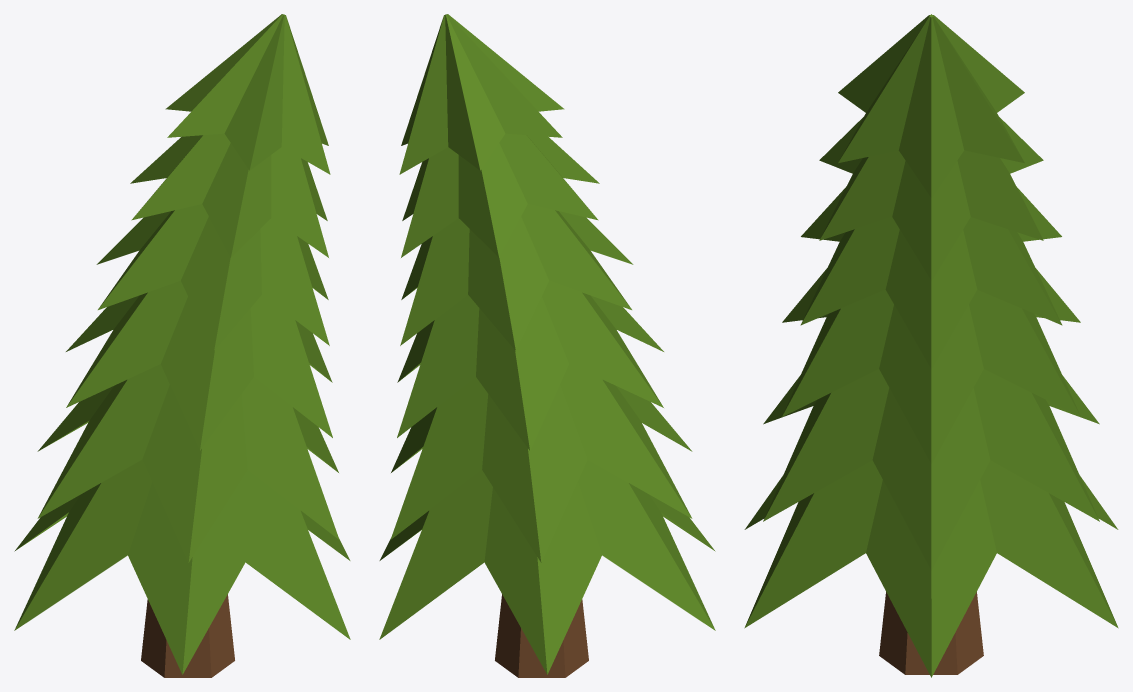
The model's file is SPW_Natures_Tree_Fir_02.glb.
The picture shows the model from 3 angles, left to right: view 1: azimuth 30°, elevation 25°; view 2: azimuth 150°, elevation 25°; view 3: azimuth 270°, elevation 25°; orthographic projection. The views are drawn at different scales.
Parts seen in each view (by area): view 1: SPW_Natures_Tree_Fir_02; view 2: SPW_Natures_Tree_Fir_02; view 3: SPW_Natures_Tree_Fir_02.
Part boxes in pixels (x1=…): SPW_Natures_Tree_Fir_02: x1=14, y1=14, x2=350, y2=677; SPW_Natures_Tree_Fir_02: x1=379, y1=14, x2=715, y2=677; SPW_Natures_Tree_Fir_02: x1=744, y1=14, x2=1118, y2=677.
Size of the model in its own units: 1.98 by 3.5 by 1.71.
1 material, 1 textured.
